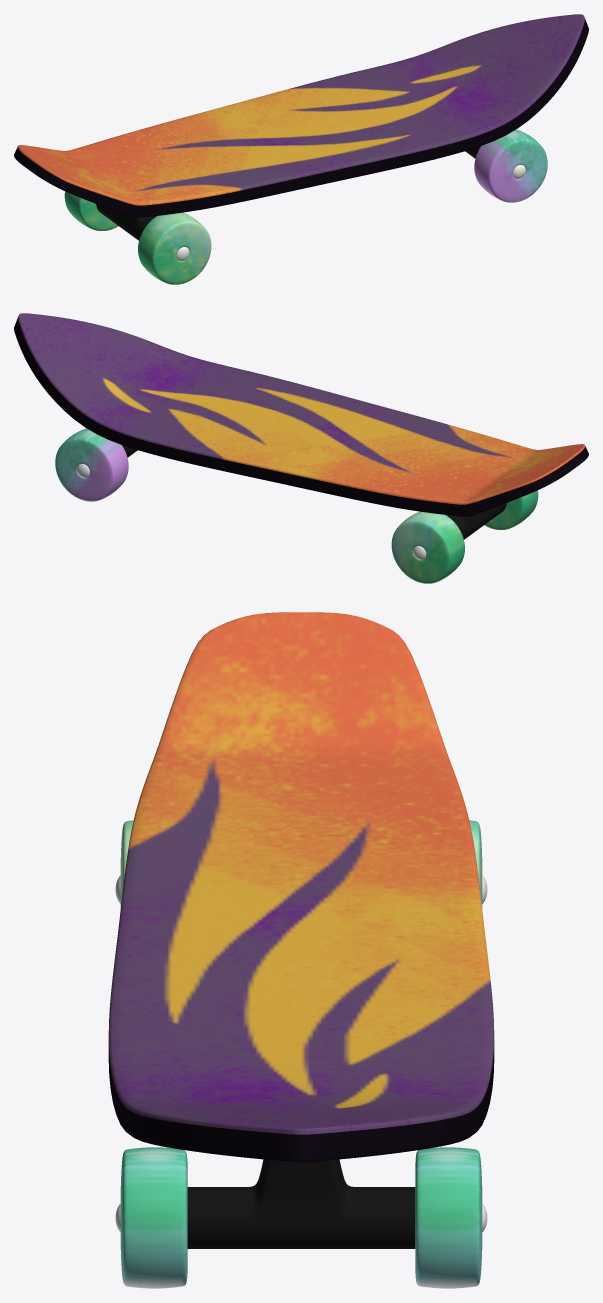
Rendered from SKATE.fbx.
3 views of the same model, one above another, from view 1: azimuth 30°, elevation 25°; view 2: azimuth 150°, elevation 25°; view 3: azimuth 270°, elevation 25° (orthographic). The views are drawn at different scales.
Parts seen in each view (by area): view 1: Plane004, Cylinder005, Cylinder004; view 2: Plane004, Cylinder005, Cylinder004; view 3: Plane004, Cylinder004, Cylinder005.
Boxes of the visible parts, box(x1,y1,x2,y2) form: Plane004: box(14, 14, 588, 217); Cylinder005: box(64, 191, 211, 284); Cylinder004: box(465, 129, 547, 202); Plane004: box(14, 313, 588, 516); Cylinder005: box(391, 490, 538, 583); Cylinder004: box(55, 428, 137, 501); Plane004: box(108, 612, 494, 1162); Cylinder004: box(115, 1147, 487, 1288); Cylinder005: box(115, 820, 487, 907).
Bounding box in the file's own units: 75.82 × 16.76 × 22.61.
